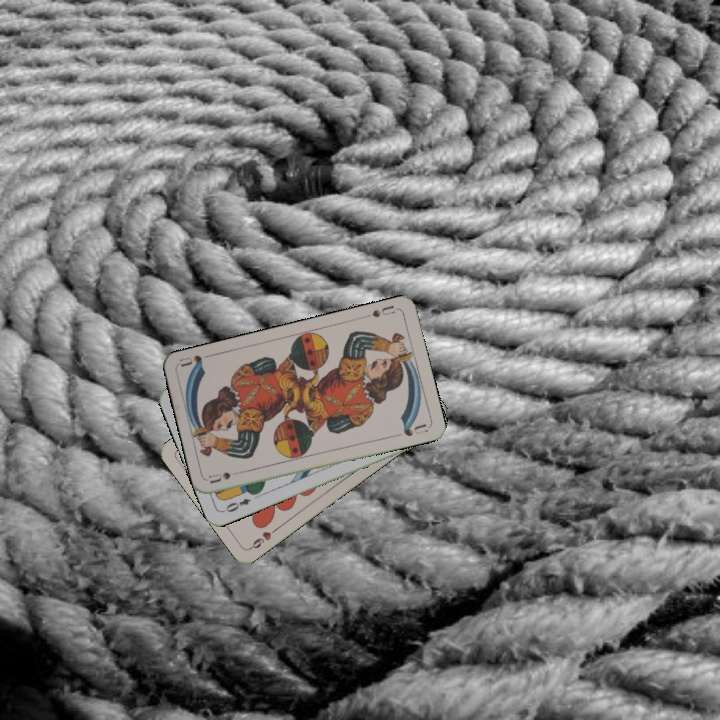EO: (219, 494, 253, 515)
H9: (246, 523, 281, 552)
SU: (368, 301, 397, 320), (205, 468, 233, 486)
